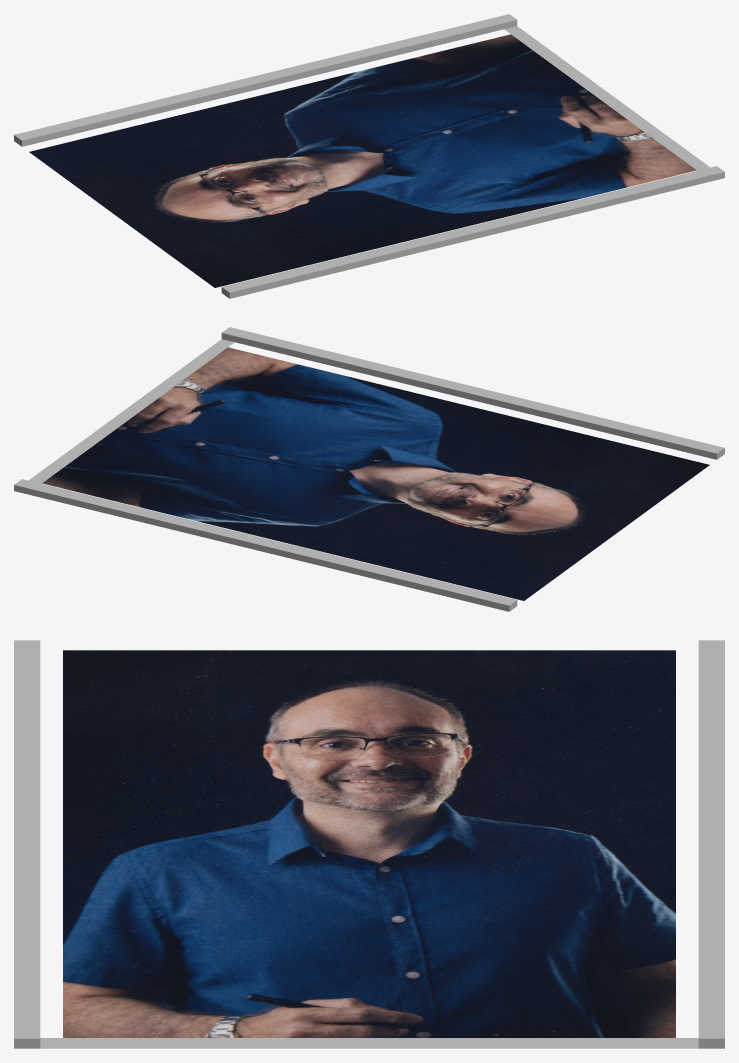
File: BRUNO BRITO.fbx
3 renders of one model, top to bottom at view 1: azimuth 30°, elevation 25°; view 2: azimuth 150°, elevation 25°; view 3: azimuth 270°, elevation 25°, orthographic. The views are drawn at different scales.
Parts seen in each view (by area): view 1: IMAGEM, QUADRO; view 2: IMAGEM, QUADRO; view 3: IMAGEM, QUADRO.
Boxes of the visible parts, x1=… form: IMAGEM: x1=29, y1=34, x2=696, y2=287; QUADRO: x1=14, y1=14, x2=724, y2=298; IMAGEM: x1=42, y1=347, x2=709, y2=600; QUADRO: x1=14, y1=327, x2=724, y2=611; IMAGEM: x1=63, y1=650, x2=675, y2=1037; QUADRO: x1=14, y1=640, x2=724, y2=1048.
Bounding box in the file's own units: 3.07 × 0.0366 × 2.32.
2 materials, 1 textured.
